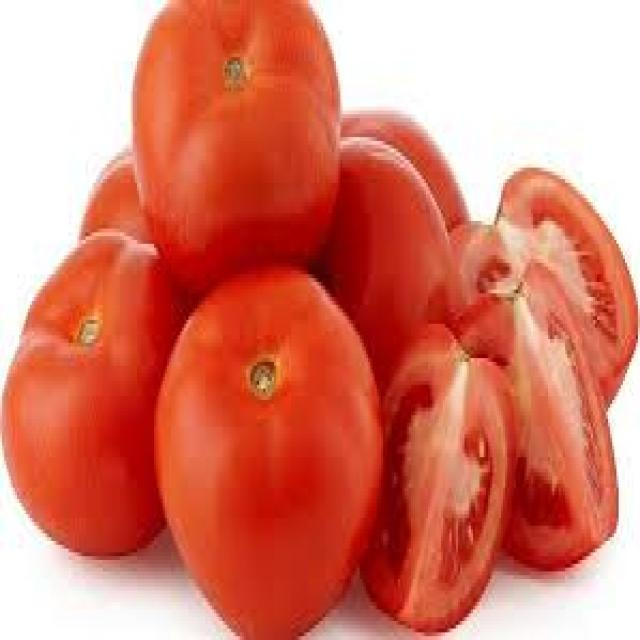Fresh_tomato: (183, 287, 366, 617), (5, 260, 178, 577), (140, 2, 334, 269), (456, 254, 615, 556), (393, 348, 495, 600), (348, 142, 448, 339)
